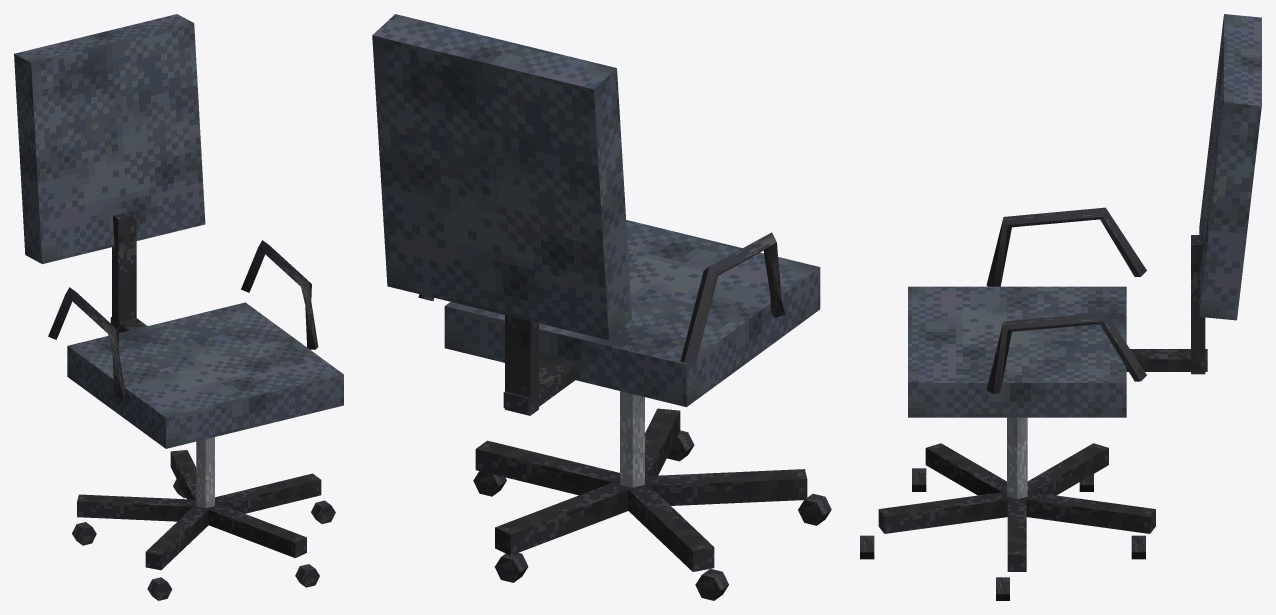
Rendered from task_chair.glb.
3 views of the same model, side by side, from view 1: azimuth 30°, elevation 25°; view 2: azimuth 150°, elevation 25°; view 3: azimuth 270°, elevation 25° (orthographic). The views are drawn at different scales.
Parts seen in each view (by area): view 1: task_chair_seat, task_chair; view 2: task_chair_seat, task_chair; view 3: task_chair_seat, task_chair.
Part boxes in pixels (left/top/right/bottom): task_chair_seat: left=14, top=14, right=343, bottom=448; task_chair: left=72, top=437, right=335, bottom=600; task_chair_seat: left=372, top=14, right=820, bottom=415; task_chair: left=473, top=391, right=831, bottom=600; task_chair_seat: left=908, top=14, right=1261, bottom=417; task_chair: left=860, top=417, right=1155, bottom=600.
Bounding box in the file's own units: 0.6 × 1.11 × 0.8445.
